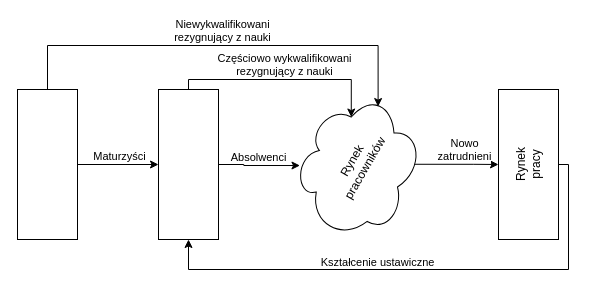
This 594x295 diagram has some shape labels left out. Each missing label, with the centre of its shape:
"System edukacji powszechnej" goes at pixel 47 164.
"System edukacji wyższej" goes at pixel 188 164.
